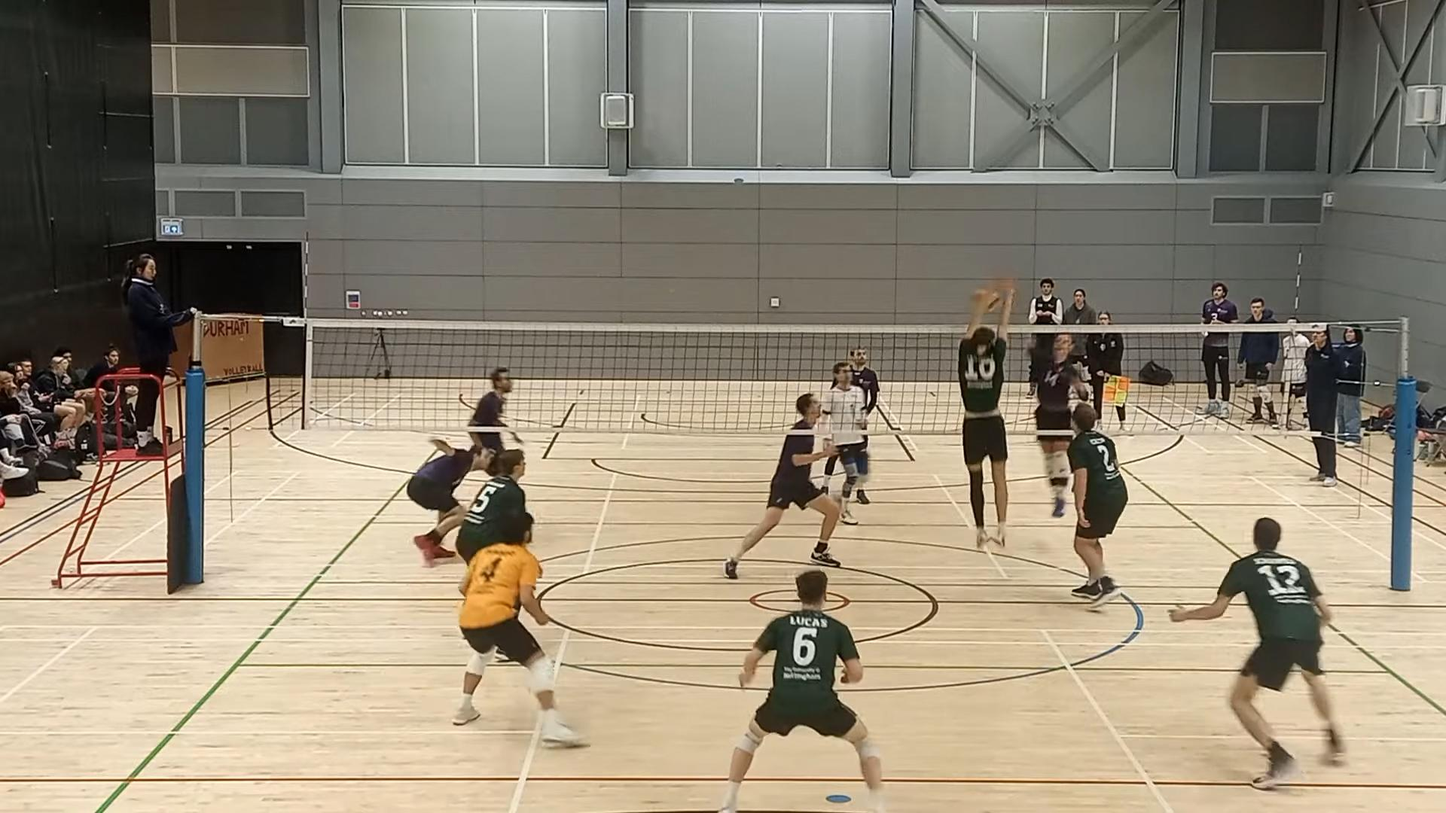Attack: (1026, 302, 1082, 521)
Block: (946, 288, 1011, 560)
Player: (1170, 518, 1343, 789), (720, 571, 884, 812), (453, 513, 584, 746), (725, 394, 839, 578), (1067, 404, 1127, 607), (406, 440, 489, 566), (456, 449, 526, 562), (821, 362, 868, 525), (469, 367, 512, 455), (850, 346, 879, 418)
